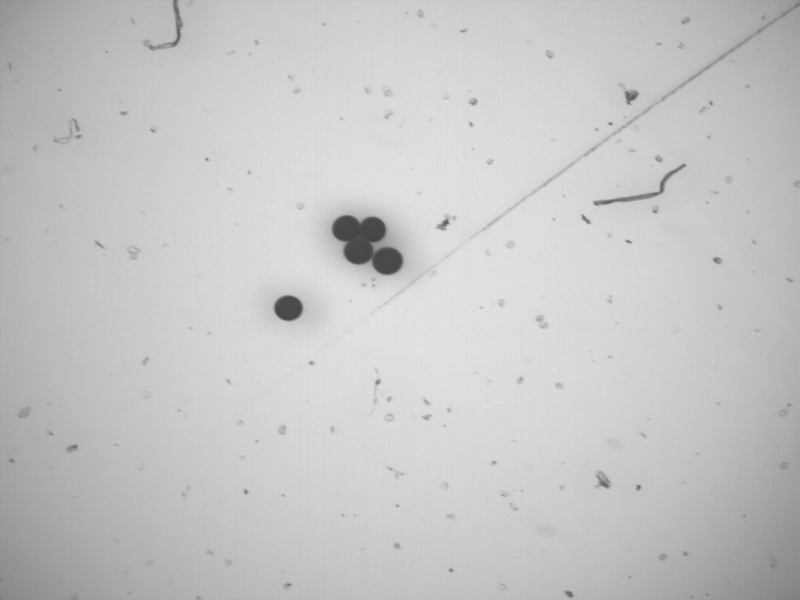bead: (343, 235, 375, 266), (371, 246, 404, 276), (329, 213, 362, 242), (359, 215, 387, 244), (272, 295, 303, 321)
fiber: (590, 159, 689, 208), (142, 1, 186, 53), (53, 116, 84, 145)
